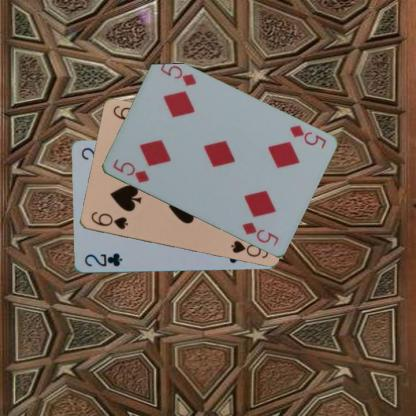2c: (82, 250, 124, 268)
5d: (109, 157, 150, 184), (287, 123, 327, 150)
6s: (88, 209, 129, 231)
